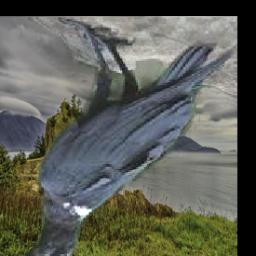Crow: (16, 18, 237, 256)
